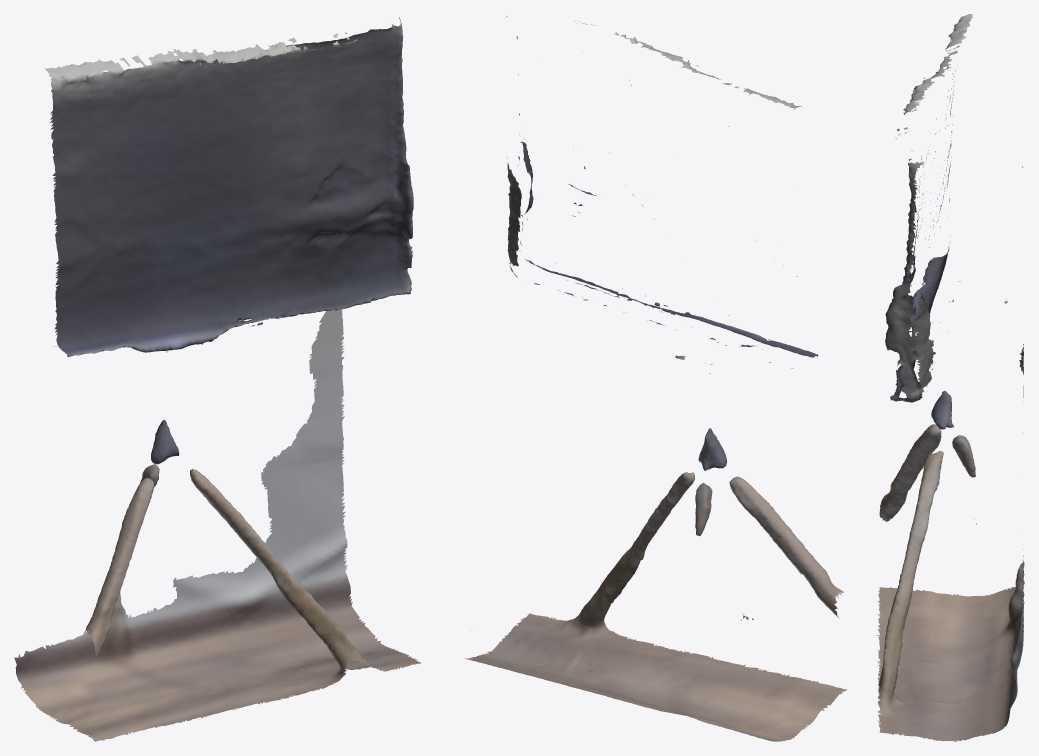
Rendered from apartment-full-99-f1284a7b3369.glb.
3 views of the same model, side by side, from view 1: azimuth 30°, elevation 25°; view 2: azimuth 150°, elevation 25°; view 3: azimuth 270°, elevation 25° (orthographic). The views are drawn at different scales.
Bounding box in the file's own units: 0.929 × 1.78 × 0.4.
